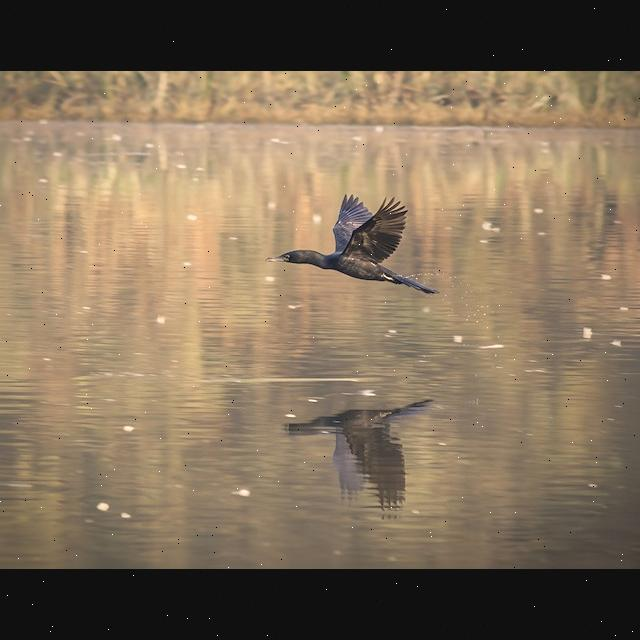cormorant: (256, 186, 444, 306)
